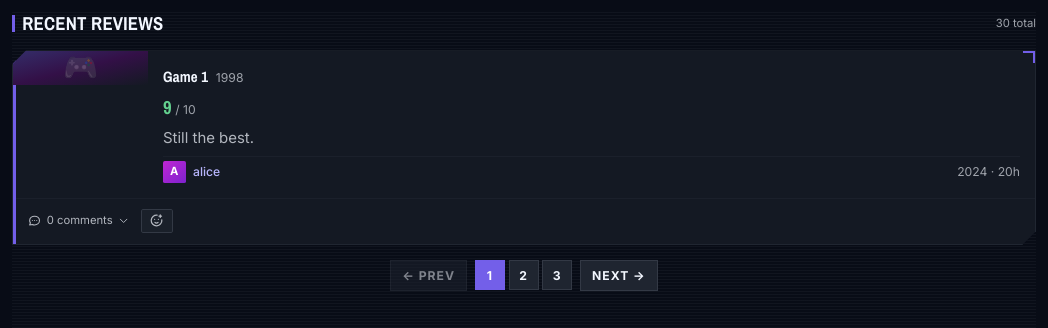
Test case: the recent reviews pagination › puts the page number in the URL when a page is chosen
The width and height of the screenshot is (1048, 328).
Expected: the link "Game 1" is shown, [163,66,208,88]
Click the button "3".
click(557, 275)  # box [542,260,572,290]
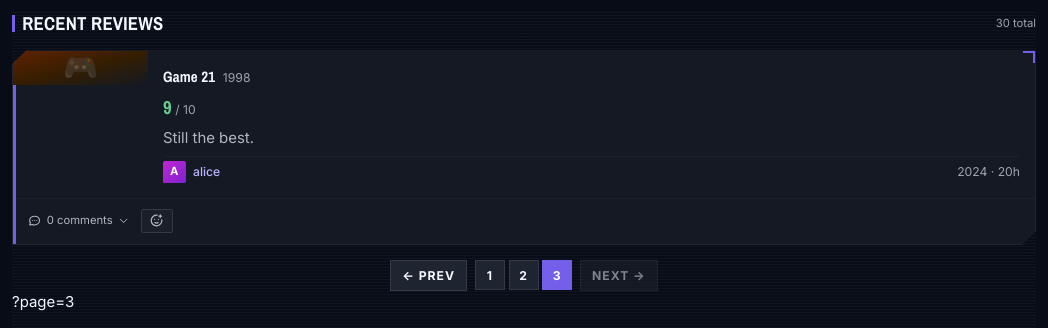
Expected: the link "Game 21" is shown, [163,66,215,88]
Expected: the text with test id "url" reads "?page=3", [12,292,74,311]
